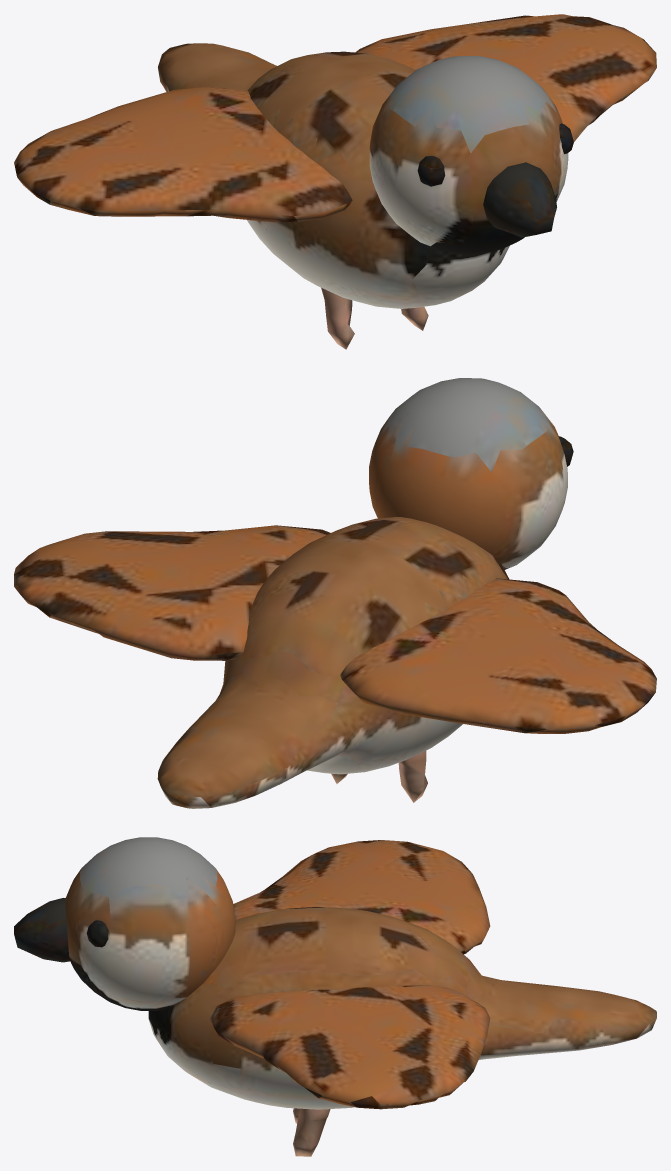
The model's file is sparrow.glb.
3 renders of one model, top to bottom at view 1: azimuth 30°, elevation 25°; view 2: azimuth 150°, elevation 25°; view 3: azimuth 270°, elevation 25°, orthographic. The views are drawn at different scales.
Visible parts, largest first — view 1: sparrow, wing0, wing1; view 2: sparrow, wing0, wing1; view 3: sparrow, wing1, wing0.
Boxes of the visible parts, <box> form: sparrow: <box>158,43,573,349</box>; wing0: <box>14,87,352,222</box>; wing1: <box>355,14,656,141</box>; sparrow: <box>157,378,573,808</box>; wing0: <box>340,578,656,733</box>; wing1: <box>14,525,330,660</box>; sparrow: <box>14,837,656,1156</box>; wing1: <box>210,985,490,1109</box>; wing0: <box>233,840,490,954</box>.
Size of the model in its own units: 0.2002 by 0.1052 by 0.2076.
Materials: 1 (1 with a texture image).
